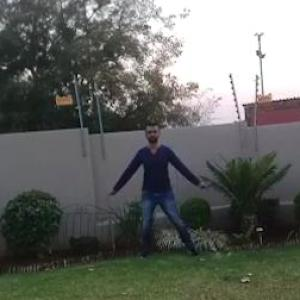land: (107, 117, 217, 262)
